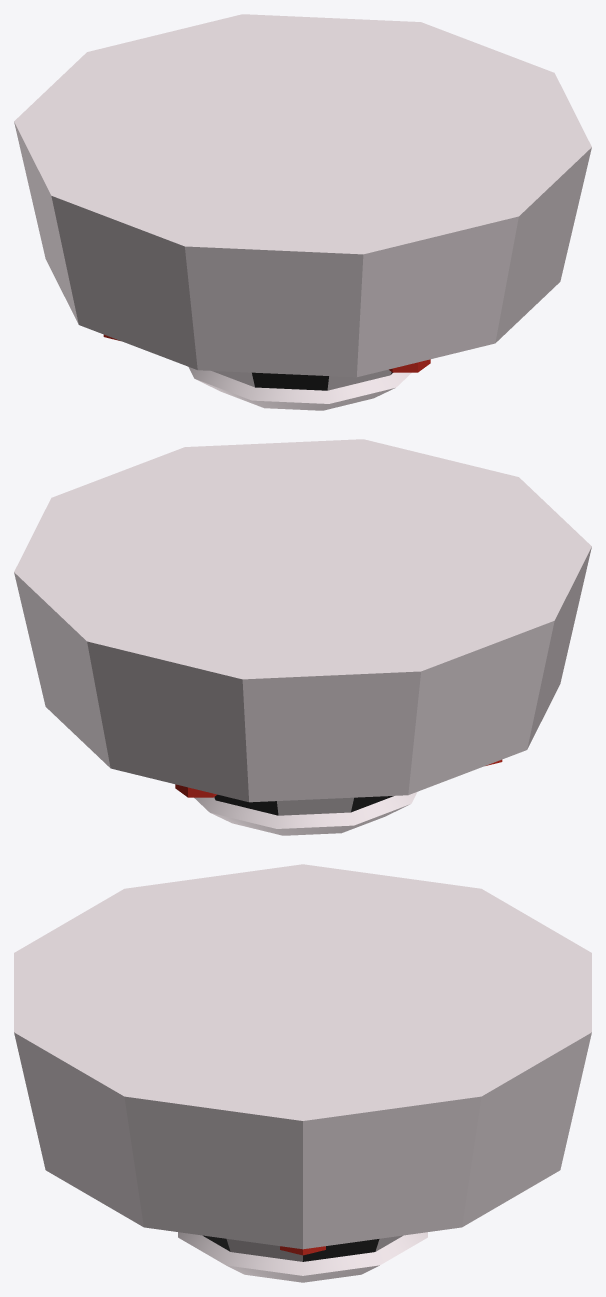
File: mesh_smoke.fbx
3 views of the same model, one above another, from view 1: azimuth 30°, elevation 25°; view 2: azimuth 150°, elevation 25°; view 3: azimuth 270°, elevation 25° (orthographic). The views are drawn at different scales.
Parts seen in each view (by area): view 1: mesh_smokedetector_01; view 2: mesh_smokedetector_01; view 3: mesh_smokedetector_01.
Part boxes in pixels (x1=…): mesh_smokedetector_01: x1=14, y1=14, x2=591, y2=410; mesh_smokedetector_01: x1=14, y1=439, x2=591, y2=835; mesh_smokedetector_01: x1=14, y1=864, x2=591, y2=1282.
Bounding box in the file's own units: 10.25 × 4.61 × 9.75.
